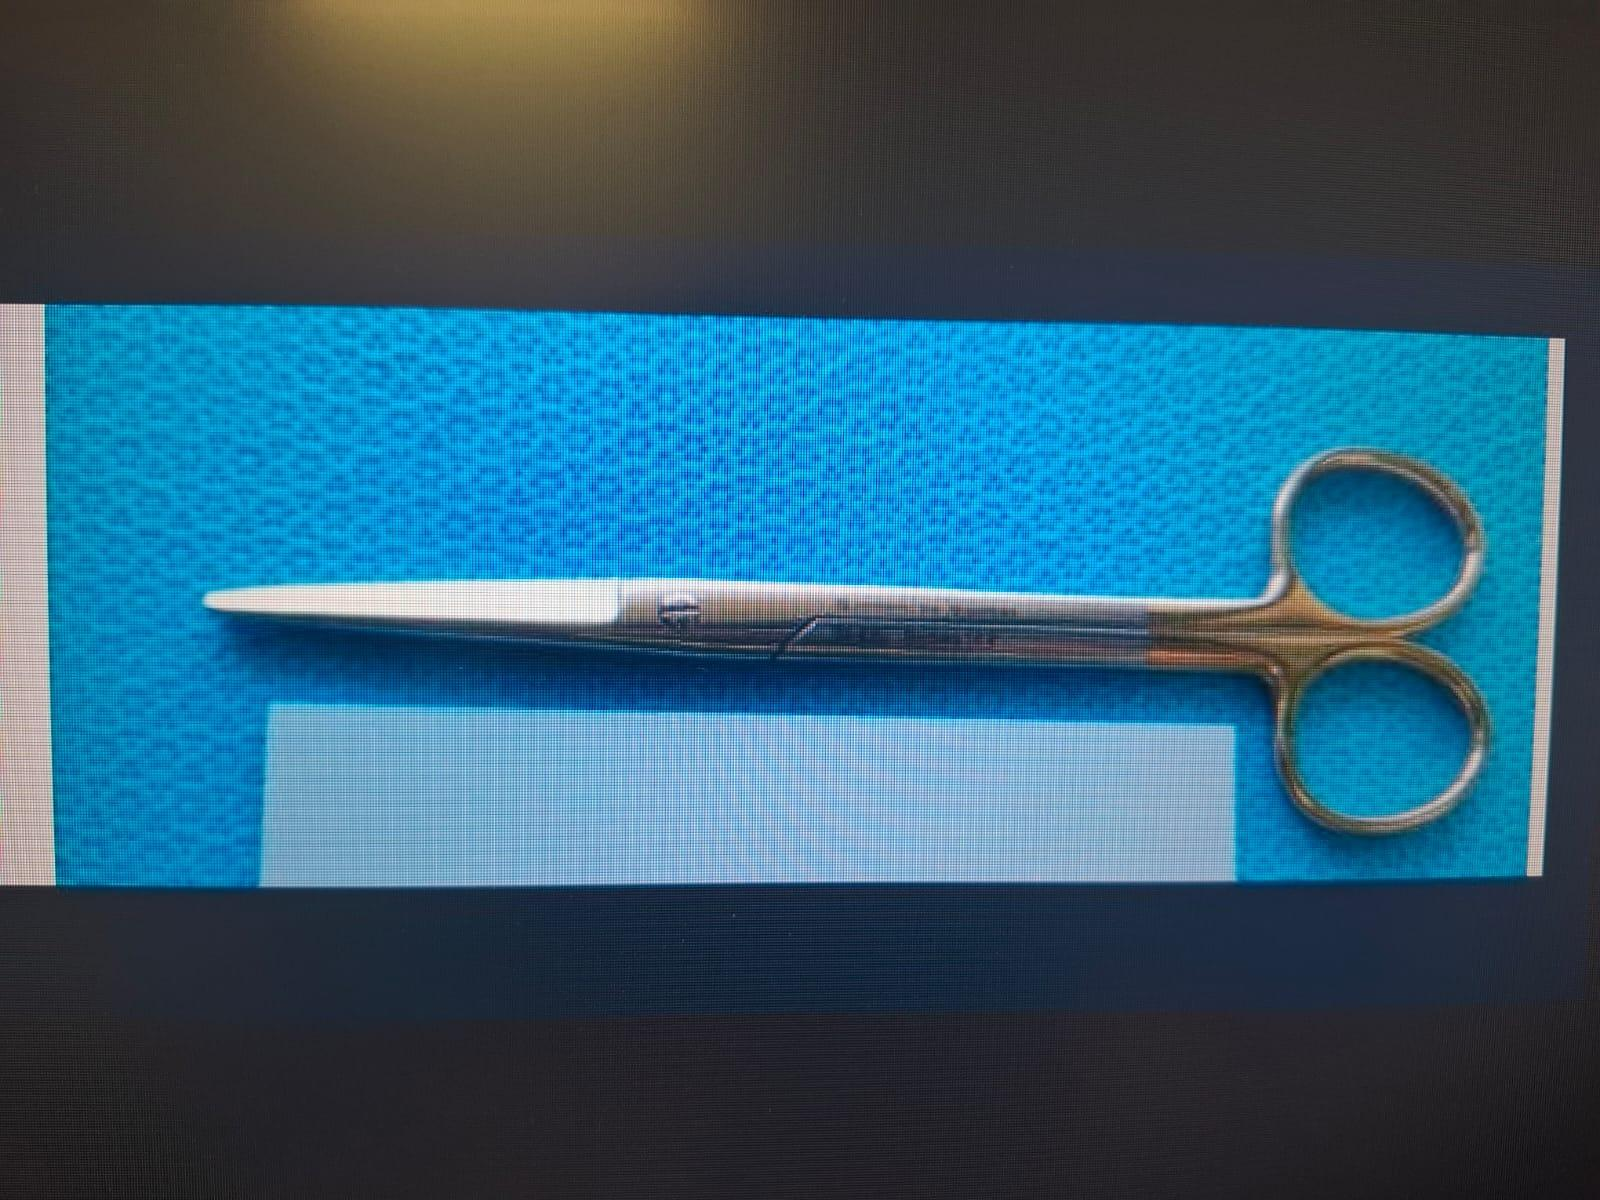Straight Mayo: (184, 404, 1514, 870)
